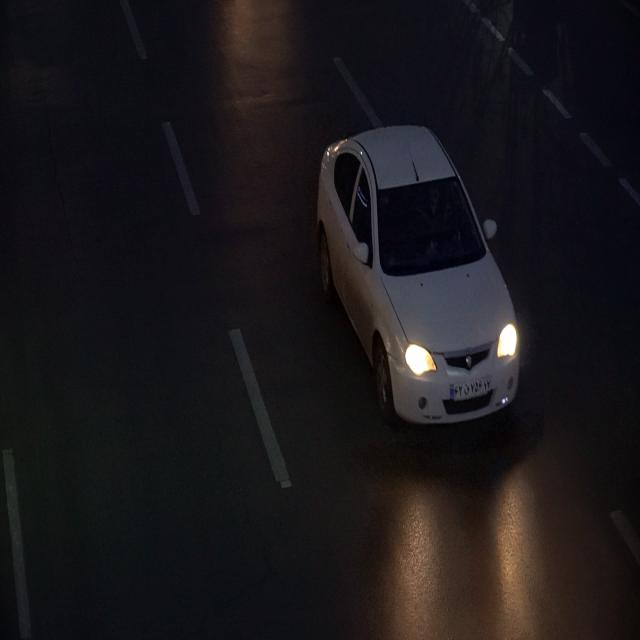car: (318, 126, 522, 428)
